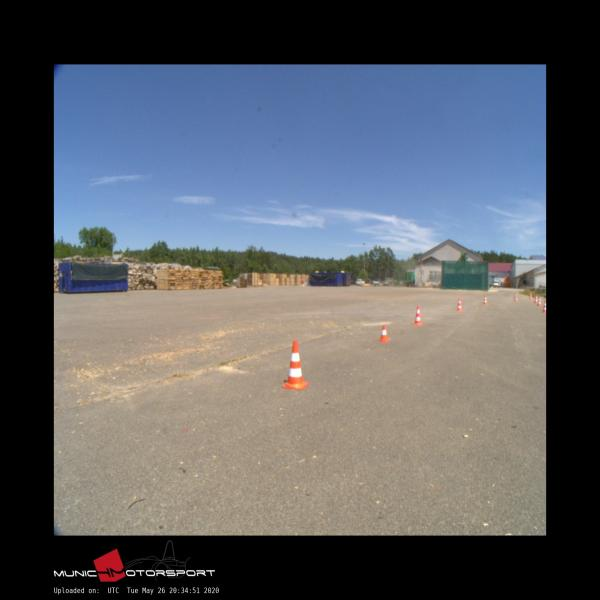large_orange_cone: (282, 340, 308, 389), (413, 305, 422, 325), (456, 298, 462, 311), (542, 299, 546, 312), (483, 294, 488, 304), (537, 296, 541, 306), (534, 294, 538, 303), (514, 293, 518, 301), (529, 292, 532, 300)
orange_cone: (378, 325, 390, 341)
